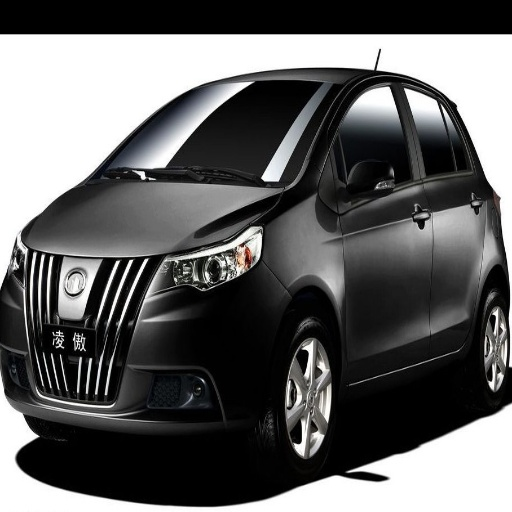front_bumper: (4, 245, 287, 432)
front_glass: (93, 80, 342, 183)
front_left_door: (323, 76, 432, 372)
